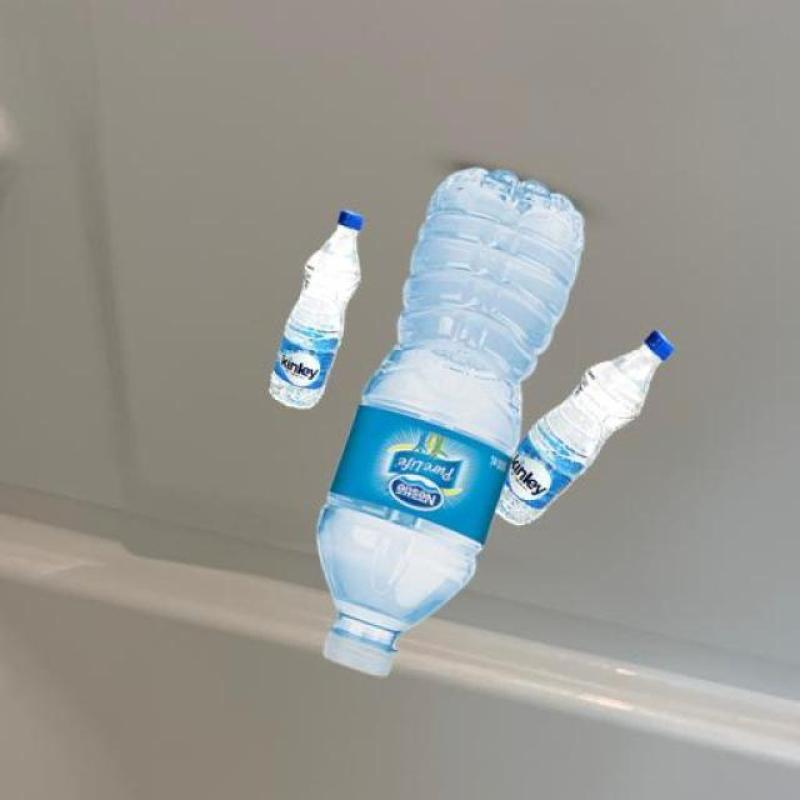botella: (316, 168, 586, 680), (496, 333, 672, 528), (267, 211, 365, 411)
